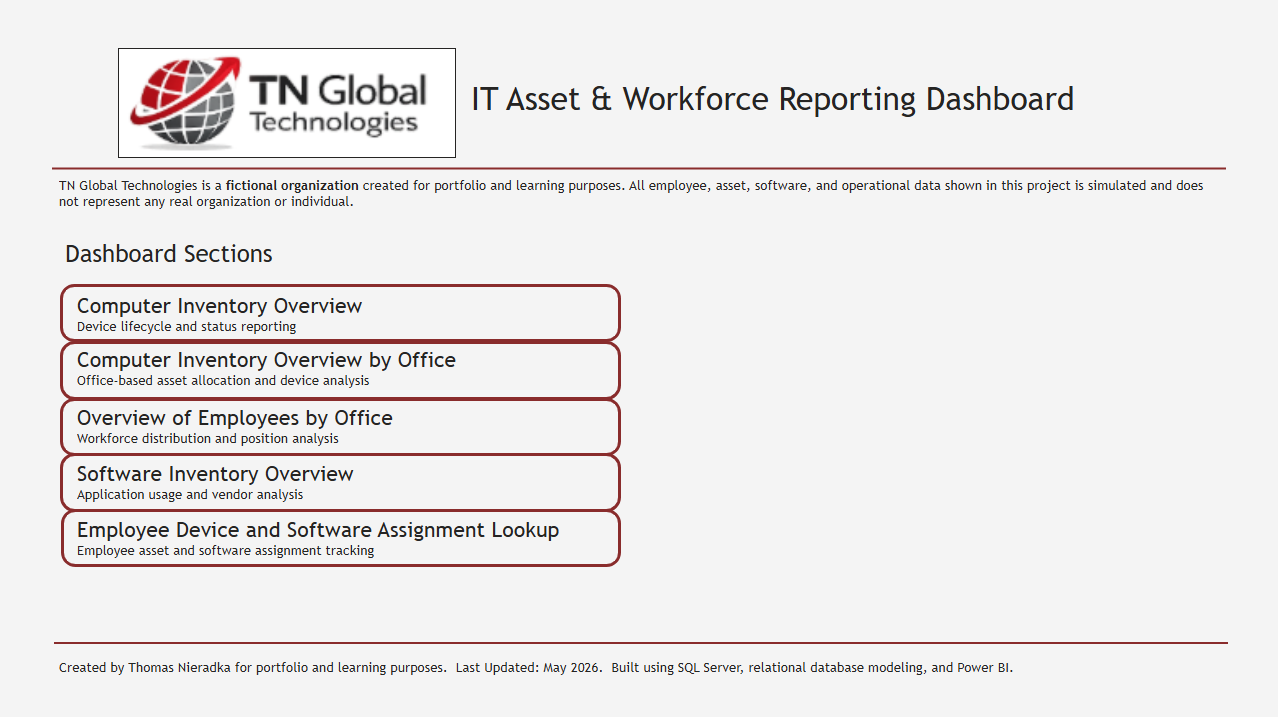

Layout of this report page (visuals, bound fields, positions):
{"tool":"powerbi","page":{"name":"Welcome","canvas":[1280,720],"ordinal":0},"visuals":[{"type":"image","box":[118.7,47.7,338.5,109.9],"z":0},{"type":"textbox","box":[55.4,172.2,1172,62.2],"z":1000},{"type":"textbox","box":[72.9,287.9,337.5,54.5],"z":2000},{"type":"textbox","box":[72.9,342.4,559.3,55.4],"z":3000},{"type":"textbox","box":[72.9,399.8,559.3,55.4],"z":4000},{"type":"textbox","box":[72.9,456.2,559.3,51.6],"z":5000},{"type":"textbox","box":[72.9,511.6,549.5,51.6],"z":6000},{"type":"shape","box":[55.4,632.2,1174,21.4],"z":7000},{"type":"shape","box":[53.5,157.6,1174,21.4],"z":8000},{"type":"textbox","box":[466.9,74.9,729.5,69.1],"z":9000},{"type":"textbox","box":[61.3,234.4,498,38.9],"z":10000},{"type":"shape","box":[61.3,284,560.2,58.4],"z":11000},{"type":"shape","box":[61.3,341.4,560.2,58.4],"z":12000},{"type":"shape","box":[61.3,397.8,560.2,58.4],"z":13000},{"type":"shape","box":[61.3,453.3,560.2,58.4],"z":14000},{"type":"shape","box":[62.2,508.7,560.2,58.4],"z":15000},{"type":"textbox","box":[55.4,653.6,1172,56.4],"z":16000}]}

Visuals, with their boxes in screenshot pixels (x1, y1, x2, y2), scaled from the page's 1280x720 canvas onto the 1278x717 screenshot:
image: locate(119, 48, 456, 157)
textbox: locate(55, 171, 1225, 233)
textbox: locate(73, 287, 410, 341)
textbox: locate(73, 341, 631, 396)
textbox: locate(73, 398, 631, 453)
textbox: locate(73, 454, 631, 506)
textbox: locate(73, 509, 621, 561)
shape: locate(55, 630, 1227, 651)
shape: locate(53, 157, 1226, 178)
textbox: locate(466, 75, 1195, 143)
textbox: locate(61, 233, 558, 272)
shape: locate(61, 283, 621, 341)
shape: locate(61, 340, 621, 398)
shape: locate(61, 396, 621, 454)
shape: locate(61, 451, 621, 510)
shape: locate(62, 507, 621, 565)
textbox: locate(55, 651, 1225, 707)
